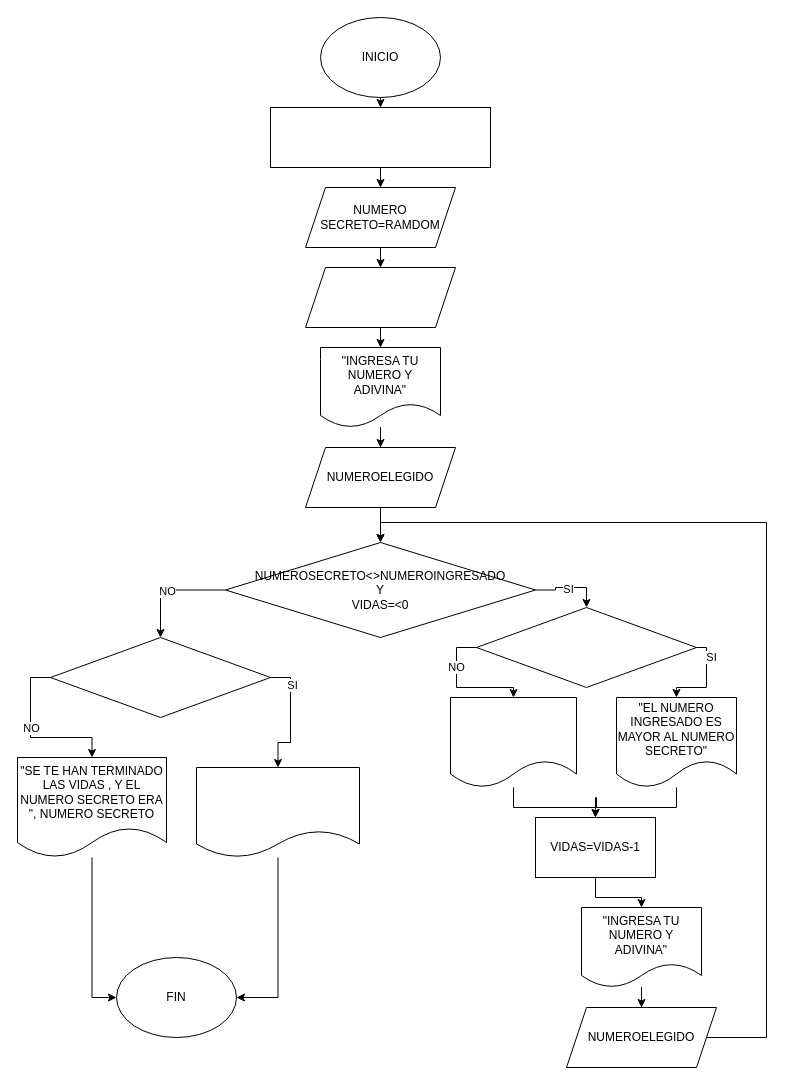
This 792x1085 diagram has some shape labels left out. The shapes that lost their labels are listed below. From the top down, each one's centre as x and y in pixels, then its label:
point 380,137: NUMEROSCRETO(INT) ,NUMEROELEGIDO(INT),VIDAS(INT)
point 380,297: VIDAS=5
point 586,647: NUMEROINGRESADO >NUMEROSECRETO
point 160,677: NUMEROINGRESADO =NUMEROSECRETO
point 513,742: "EL NUMERO INGRESADO ES MENOR AL NUMERO SECRETO"
point 278,812: "FELICIDADES ,HAS ATINADO AL NUMERO SECRETO " ,NUMERO SECRETO
